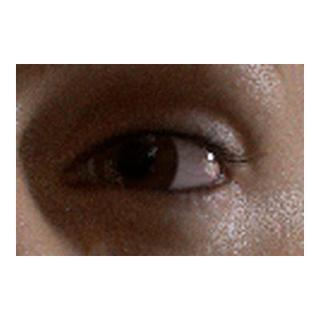pupil: (117, 143, 152, 178)
